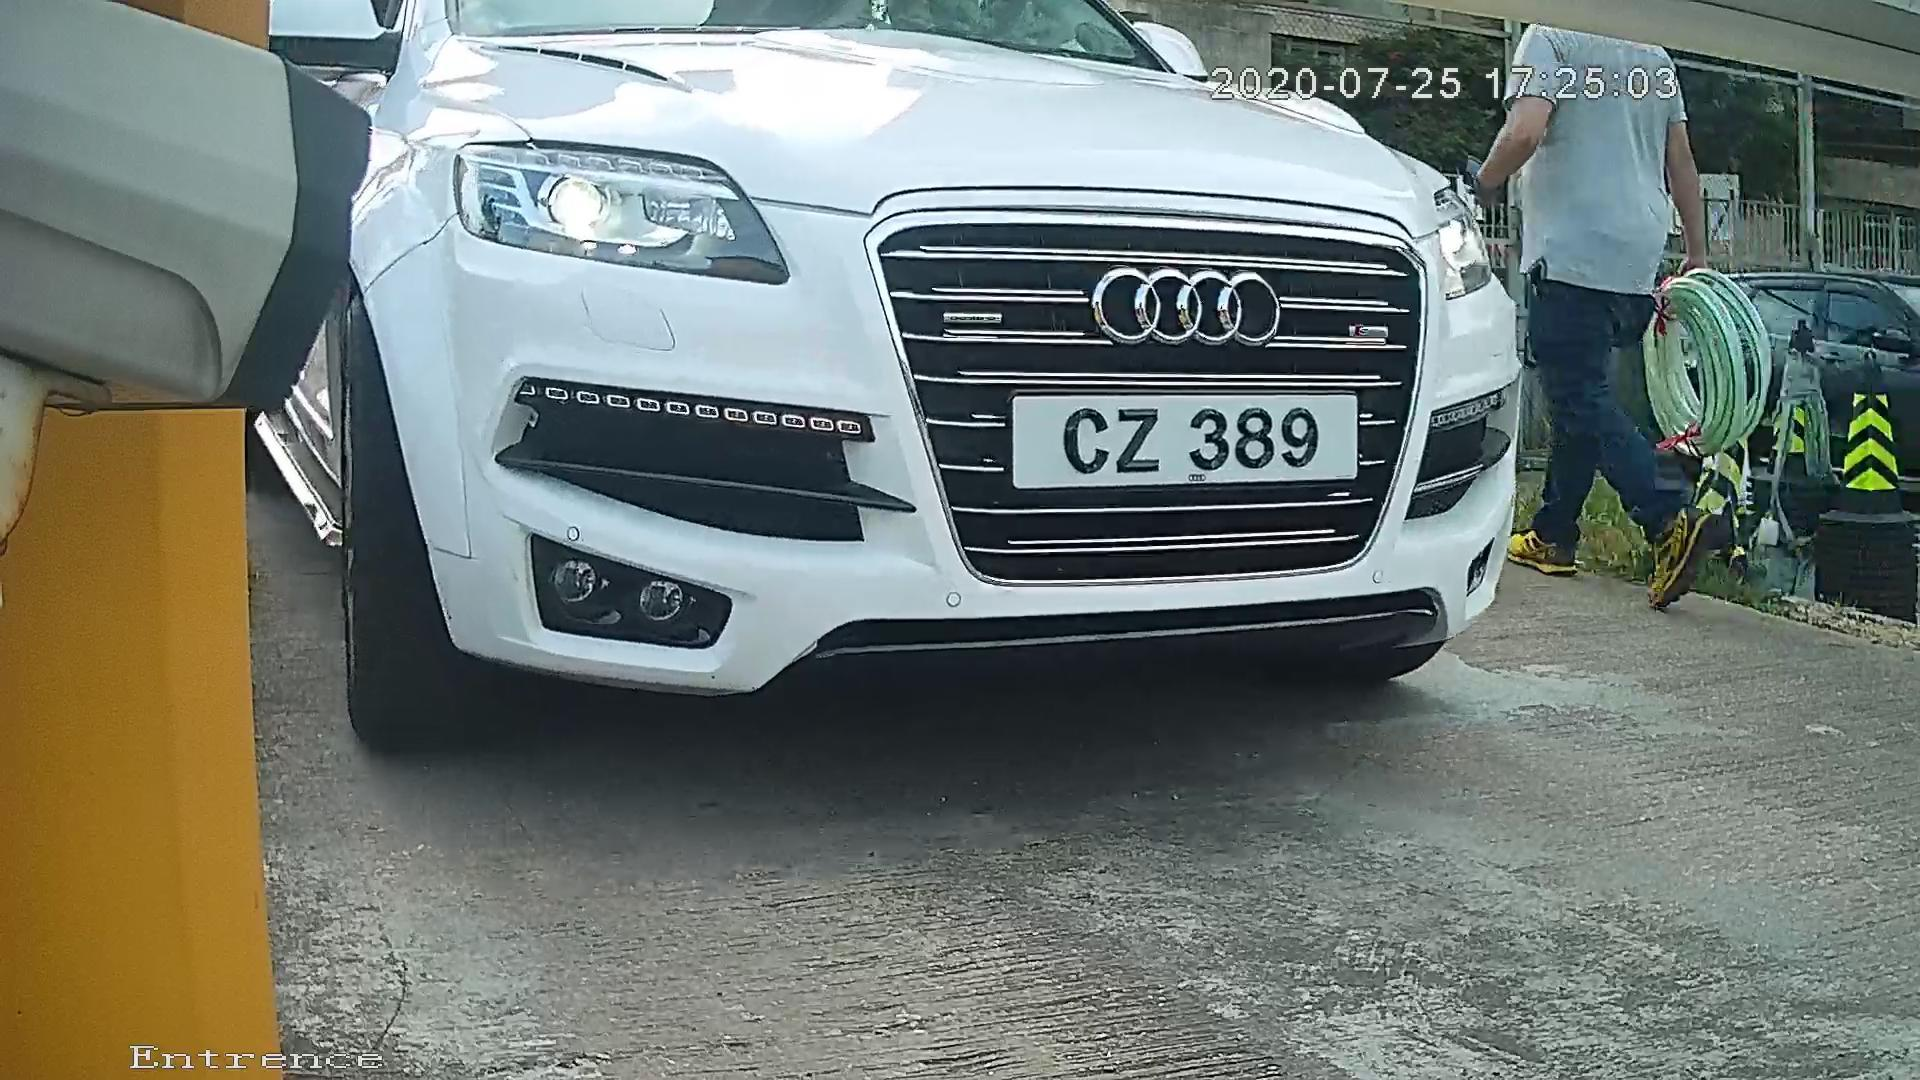privatecar: (204, 1, 1585, 823)
